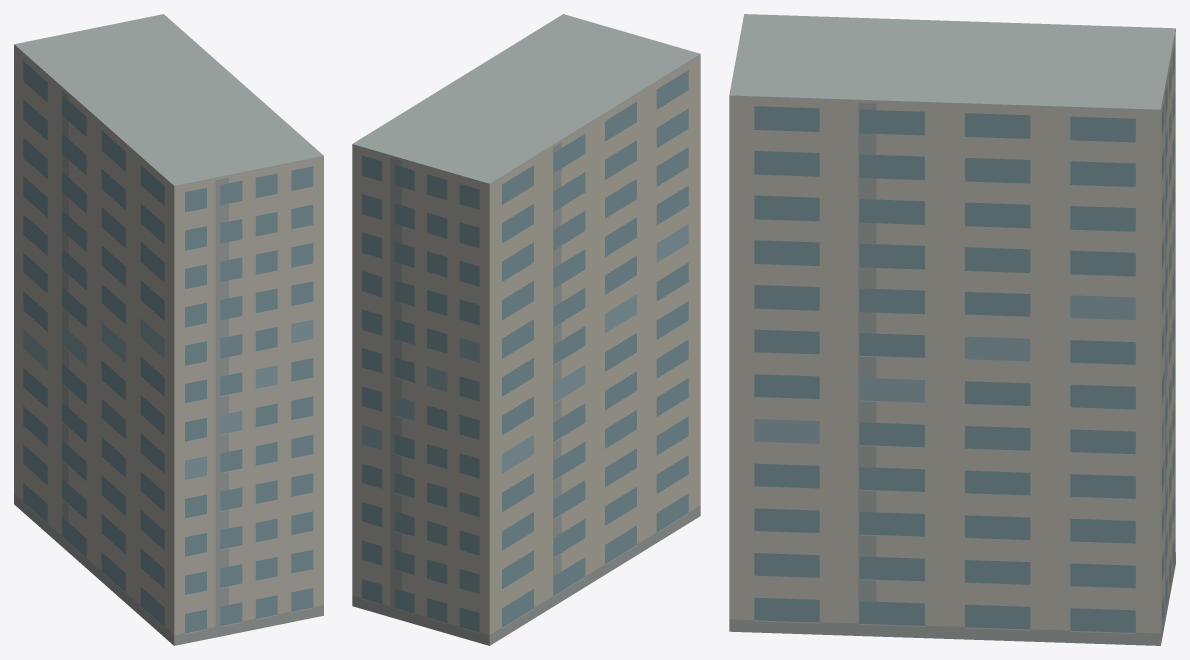
File: residential-720eb90f-6b14-4b77-a83f-5d5bea1037f0.glb
The picture shows the model from 3 angles, left to right: view 1: azimuth 30°, elevation 25°; view 2: azimuth 150°, elevation 25°; view 3: azimuth 270°, elevation 25°; orthographic projection. The views are drawn at different scales.
Visible parts, largest first — view 1: residential-720eb90f-6b14-4b77-a83f-5d5bea1037f0.tmp; view 2: residential-720eb90f-6b14-4b77-a83f-5d5bea1037f0.tmp; view 3: residential-720eb90f-6b14-4b77-a83f-5d5bea1037f0.tmp.
Part boxes in pixels (x1,y1,x2,y2): residential-720eb90f-6b14-4b77-a83f-5d5bea1037f0.tmp: (14,14,323,645); residential-720eb90f-6b14-4b77-a83f-5d5bea1037f0.tmp: (352,14,700,645); residential-720eb90f-6b14-4b77-a83f-5d5bea1037f0.tmp: (729,14,1175,645).
Bounding box in the file's own units: 15.32 × 40 × 30.2.
